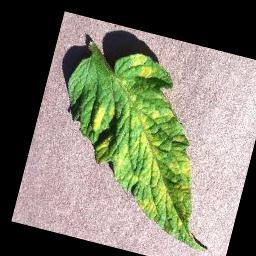Leaf_Mold: (76, 89, 239, 252), (126, 51, 159, 81), (87, 100, 108, 133)
